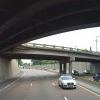Bridge: (7, 2, 95, 68)
